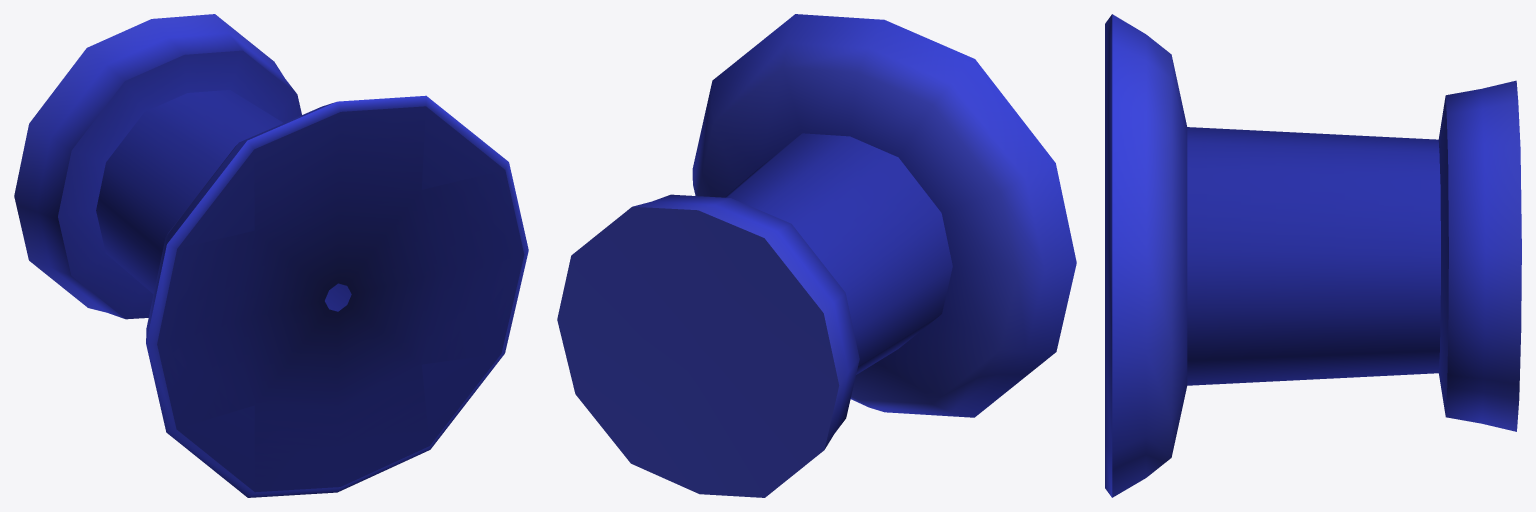
The picture shows the model from 3 angles, left to right: view 1: azimuth 30°, elevation 25°; view 2: azimuth 150°, elevation 25°; view 3: azimuth 270°, elevation 25°; orthographic projection. The views are drawn at different scales.
Parts seen in each view (by area): view 1: color.061; view 2: color.061; view 3: color.061.
Boxes of the visible parts, x1,y1,x2,y2 form: color.061: [14, 14, 528, 497]; color.061: [557, 14, 1076, 497]; color.061: [1105, 14, 1521, 497].
Size of the model in its own units: 0.5 by 0.488 by 0.4319.
